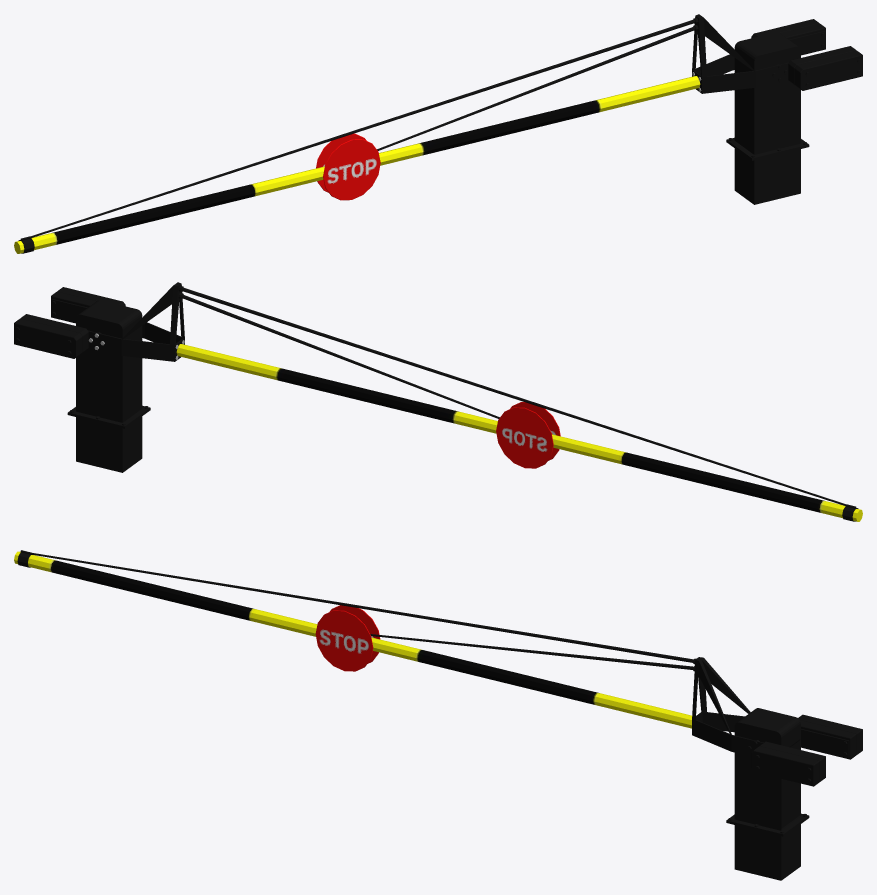
Rendered from Railway-Crossing-transformed.glb.
3 views of the same model, one above another, from view 1: azimuth 30°, elevation 25°; view 2: azimuth 150°, elevation 25°; view 3: azimuth 330°, elevation 25° (orthographic).
Visible parts, largest first — view 1: main1, main_pole, Side_Support1, STOP_1, Ring_12, Side1, Ring_13, Side, STOP_2; view 2: main1, main_pole, Side_Support1, STOP_2, Ring_12, Side, Ring_13, Side1, STOP_1; view 3: main1, main_pole, Side_Support1, STOP_1, Ring_12, Side1, Side, Ring_13.
Part boxes in pixels (x1,y1,x2,y2): main1: (726, 32, 809, 204); main_pole: (14, 76, 700, 253); Side_Support1: (692, 14, 825, 93); STOP_1: (323, 139, 380, 200); Ring_12: (18, 18, 698, 253); Side1: (788, 46, 862, 90); Ring_13: (377, 25, 698, 150); Side: (751, 19, 825, 55); STOP_2: (316, 133, 366, 192); main1: (67, 300, 150, 472); main_pole: (176, 344, 862, 521); Side_Support1: (51, 282, 184, 361); STOP_2: (496, 407, 553, 468); Ring_12: (178, 286, 858, 521); Side: (14, 314, 88, 358); Ring_13: (178, 293, 499, 418); Side1: (51, 287, 125, 323); STOP_1: (510, 402, 560, 460); main1: (726, 708, 809, 880); main_pole: (14, 551, 692, 728); Side_Support1: (692, 657, 849, 757); STOP_1: (315, 610, 373, 671); Ring_12: (17, 550, 695, 664); Side1: (751, 741, 825, 786); Side: (798, 714, 862, 759); Ring_13: (370, 634, 694, 671).
Size of the model in its own units: 0.0967 by 0.0216 by 0.0104.
4 materials, 2 textured.
